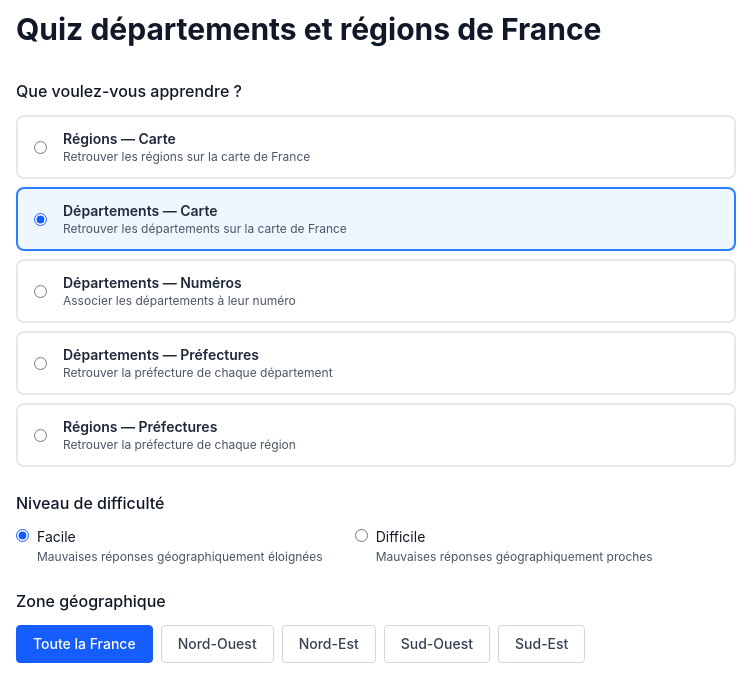
Test: QuizConfig – zone géographique › affiche la description de la zone sélectionnée
Click the button "Nord-Ouest": (217, 644) [161, 625, 274, 663]
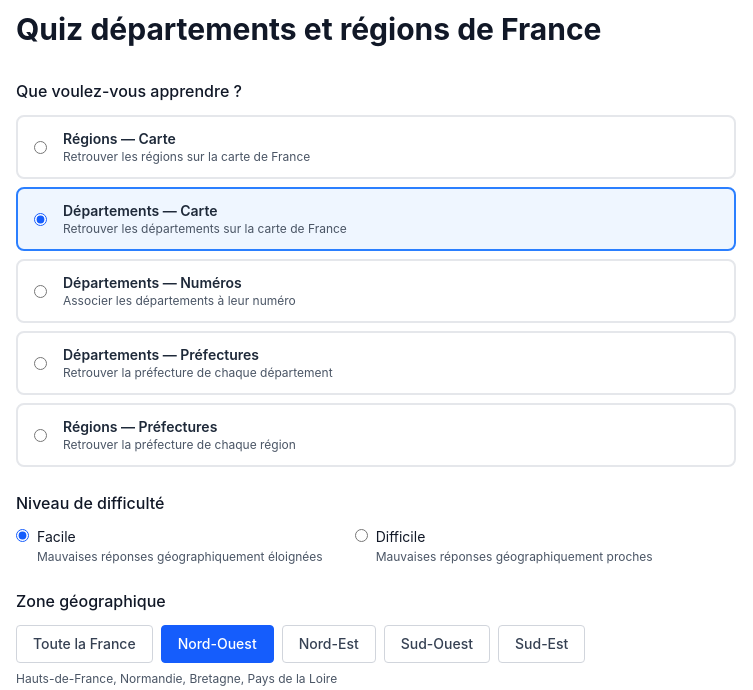
Expected: the text "Hauts-de-France, Normandie, Bretagne, Pays de la Loire" is shown, [16, 671, 337, 686]
